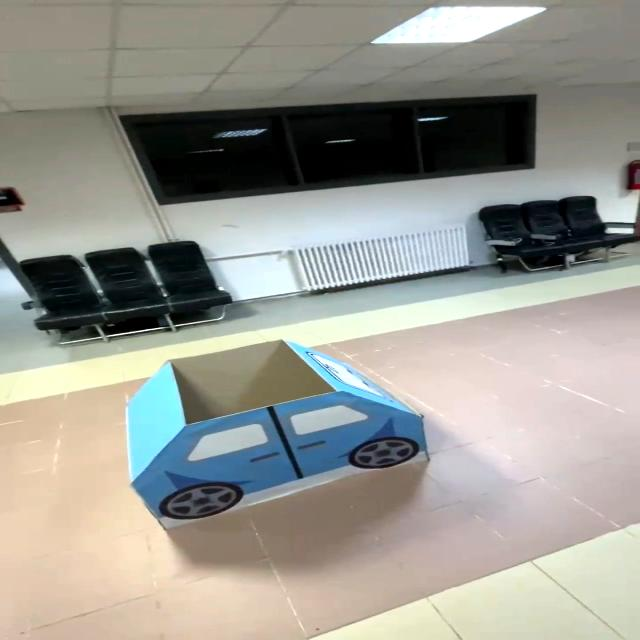blue_car: (87, 323, 452, 527)
